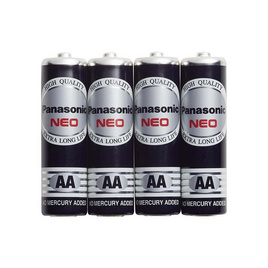Battery: (86, 51, 136, 217), (180, 51, 228, 217), (134, 51, 181, 217), (41, 52, 87, 217)
